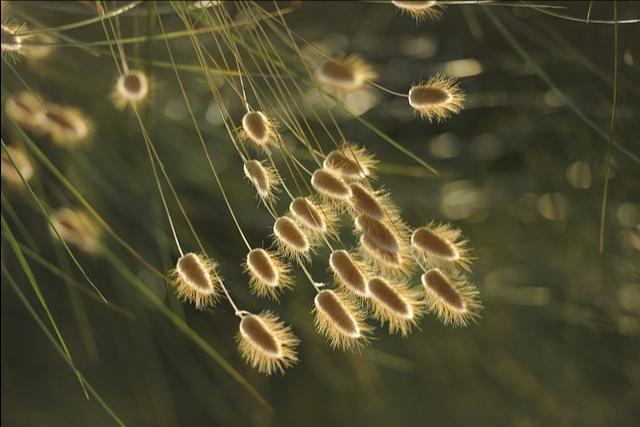Non_Gorille: (62, 1, 524, 421)
